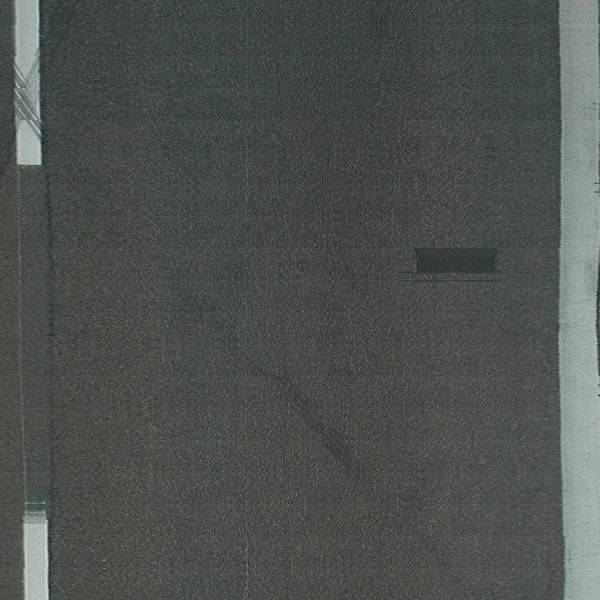road_damage: (408, 241, 510, 280)
